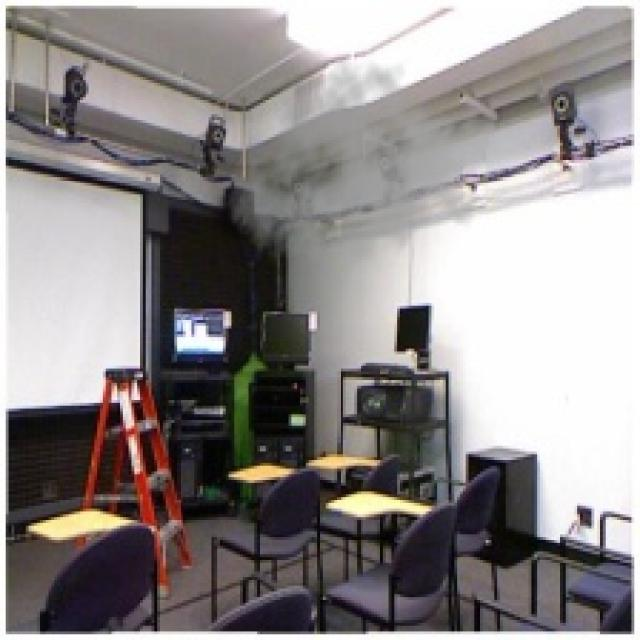smoke: (226, 52, 497, 288)
